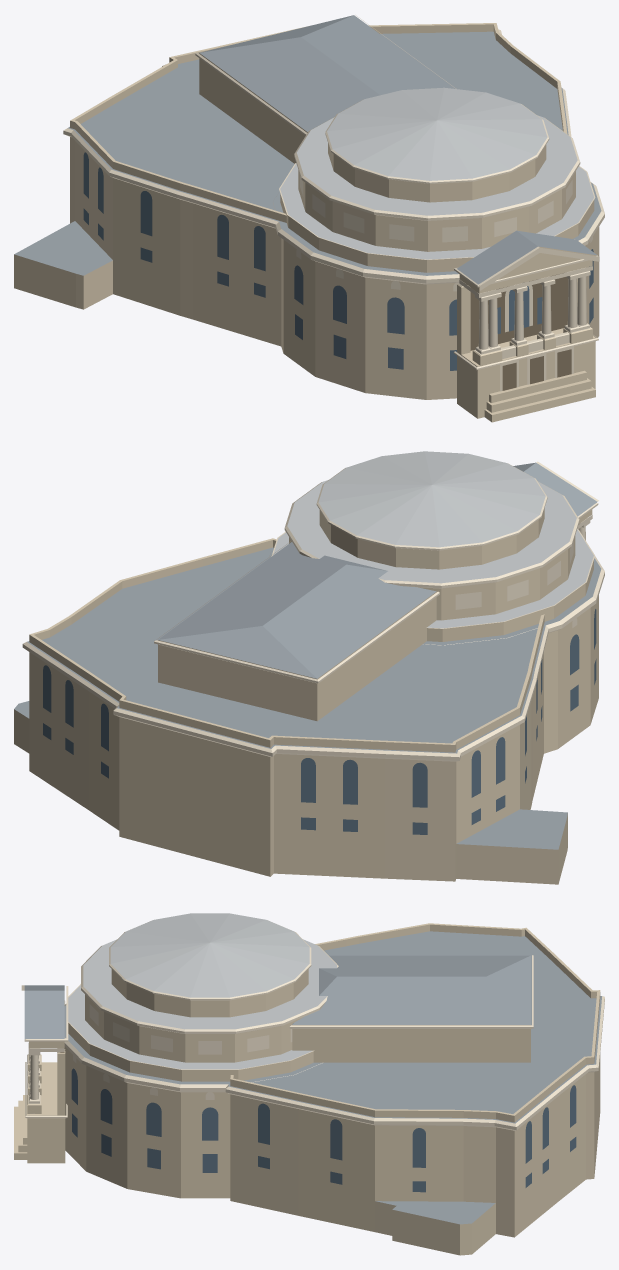
The model's file is cle-severance-music-center.glb.
The picture shows the model from 3 angles, top to bottom: view 1: azimuth 30°, elevation 25°; view 2: azimuth 150°, elevation 25°; view 3: azimuth 270°, elevation 25°; orthographic projection. The views are drawn at different scales.
Parts seen in each view (by area): view 1: Severance Music Center; view 2: Severance Music Center; view 3: Severance Music Center.
Part boxes in pixels (x1,y1,x2,y2): Severance Music Center: (14, 15, 604, 422); Severance Music Center: (14, 451, 604, 884); Severance Music Center: (14, 913, 604, 1255).
Size of the model in its own units: 76.5 by 28.7 by 79.23.
